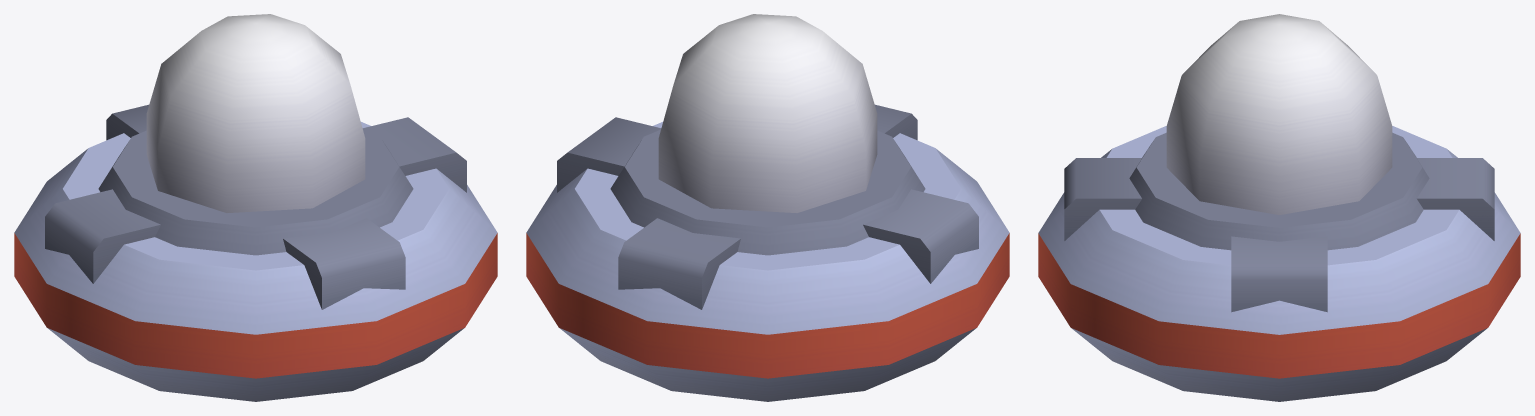
The model's file is cc0-enemy-ufo-lod0.glb.
3 views of the same model, side by side, from view 1: azimuth 30°, elevation 25°; view 2: azimuth 150°, elevation 25°; view 3: azimuth 270°, elevation 25° (orthographic).
Visible parts, largest first — view 1: part_0; view 2: part_0; view 3: part_0.
Boxes of the visible parts, x1,y1,x2,y2 form: part_0: (14, 14, 497, 401); part_0: (526, 14, 1009, 401); part_0: (1038, 14, 1520, 401).
Bounding box in the file's own units: 1 × 0.6779 × 1.
Materials: 1 (1 with a texture image).
